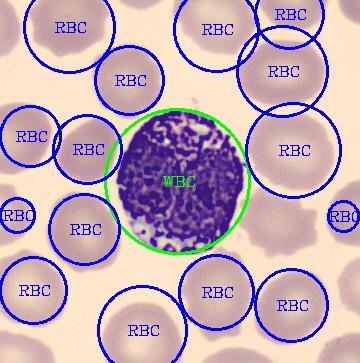RBC: (245, 111, 336, 193), (179, 244, 253, 342), (44, 188, 122, 274), (235, 37, 327, 106), (252, 267, 329, 346), (90, 40, 164, 119), (240, 186, 320, 258), (99, 297, 184, 362), (0, 248, 68, 328), (170, 0, 256, 58), (27, 0, 109, 58), (56, 116, 119, 183), (0, 99, 52, 175)
WBC: (115, 110, 246, 257)
